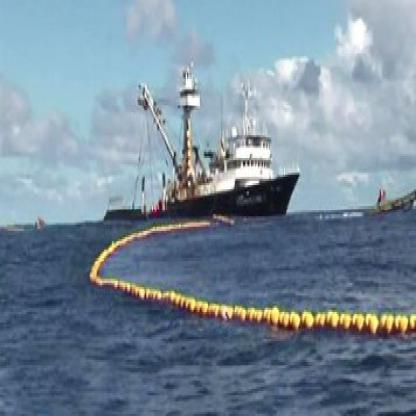fish-b: (86, 54, 308, 225)
